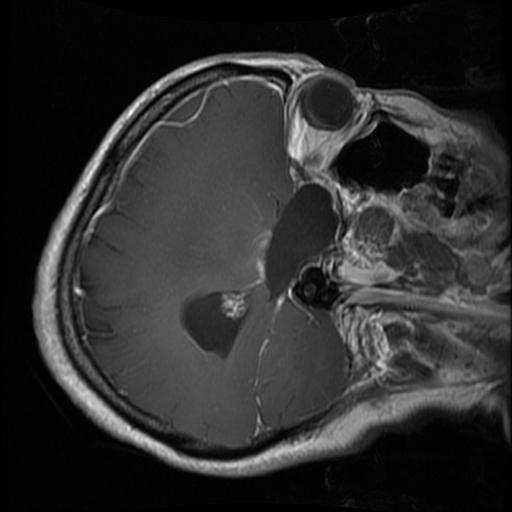glioma: (181, 185, 339, 359)
